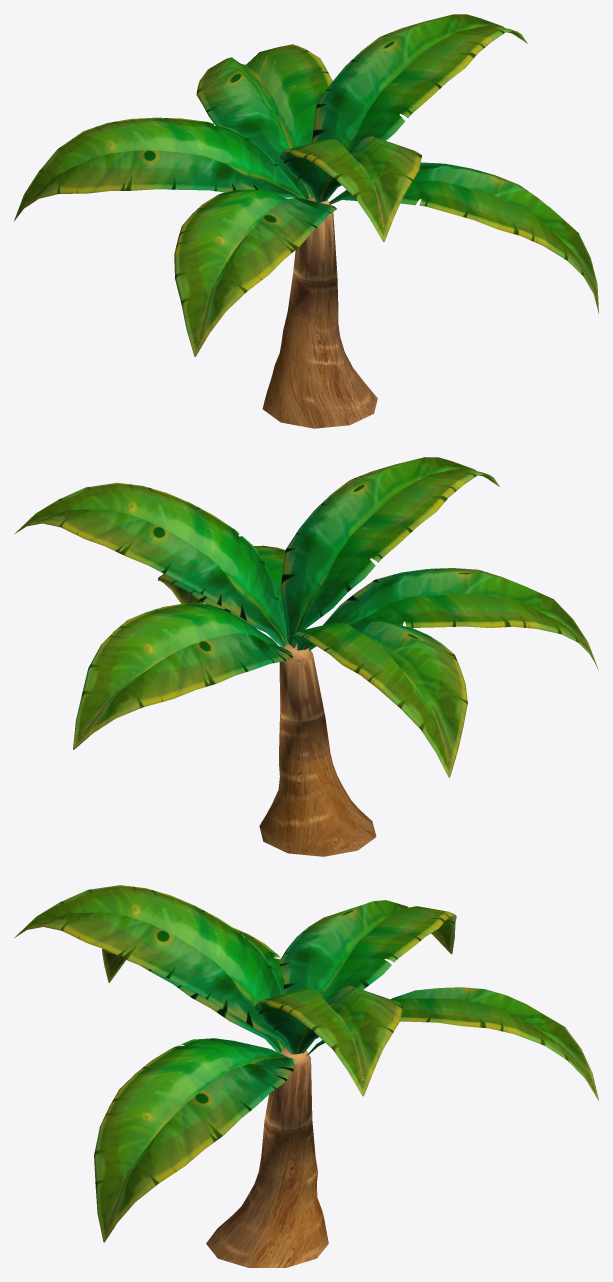
The model's file is Palm_001.fbx.
3 views of the same model, one above another, from view 1: azimuth 30°, elevation 25°; view 2: azimuth 150°, elevation 25°; view 3: azimuth 270°, elevation 25° (orthographic). The views are drawn at different scales.
Parts seen in each view (by area): view 1: Palm_001_LOD0; view 2: Palm_001_LOD0; view 3: Palm_001_LOD0.
Part boxes in pixels (bbox=[...]): Palm_001_LOD0: bbox=[14, 14, 598, 428]; Palm_001_LOD0: bbox=[15, 457, 598, 856]; Palm_001_LOD0: bbox=[14, 885, 598, 1267].
Size of what is drawn, in the model's own units: 174 by 110 by 179.
